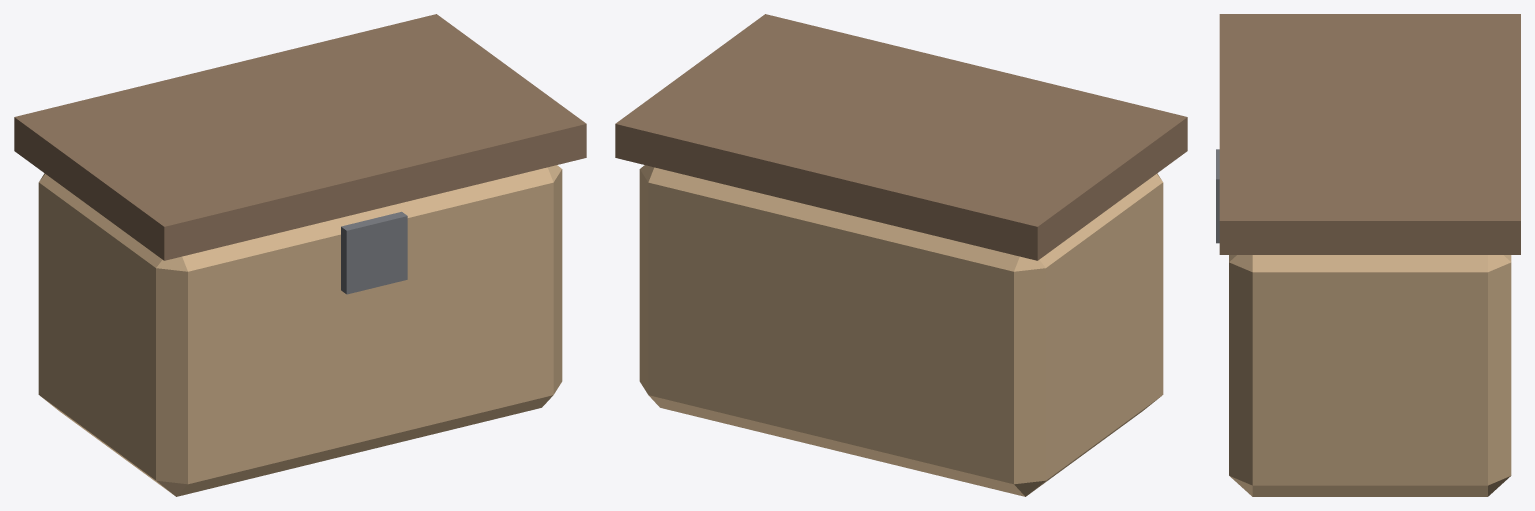
Rendered from feudal-japan-castle-town-storage-chest-778975f6__26446.glb.
3 views of the same model, side by side, from view 1: azimuth 30°, elevation 25°; view 2: azimuth 150°, elevation 25°; view 3: azimuth 270°, elevation 25° (orthographic).
Visible parts, largest first — view 1: storage-chest; view 2: storage-chest; view 3: storage-chest.
Boxes of the visible parts, x1,y1,x2,y2 form: storage-chest: [14, 14, 586, 496]; storage-chest: [615, 14, 1187, 496]; storage-chest: [1216, 14, 1520, 496].
Size of the model in its own units: 1.04 by 0.68 by 0.6475.
